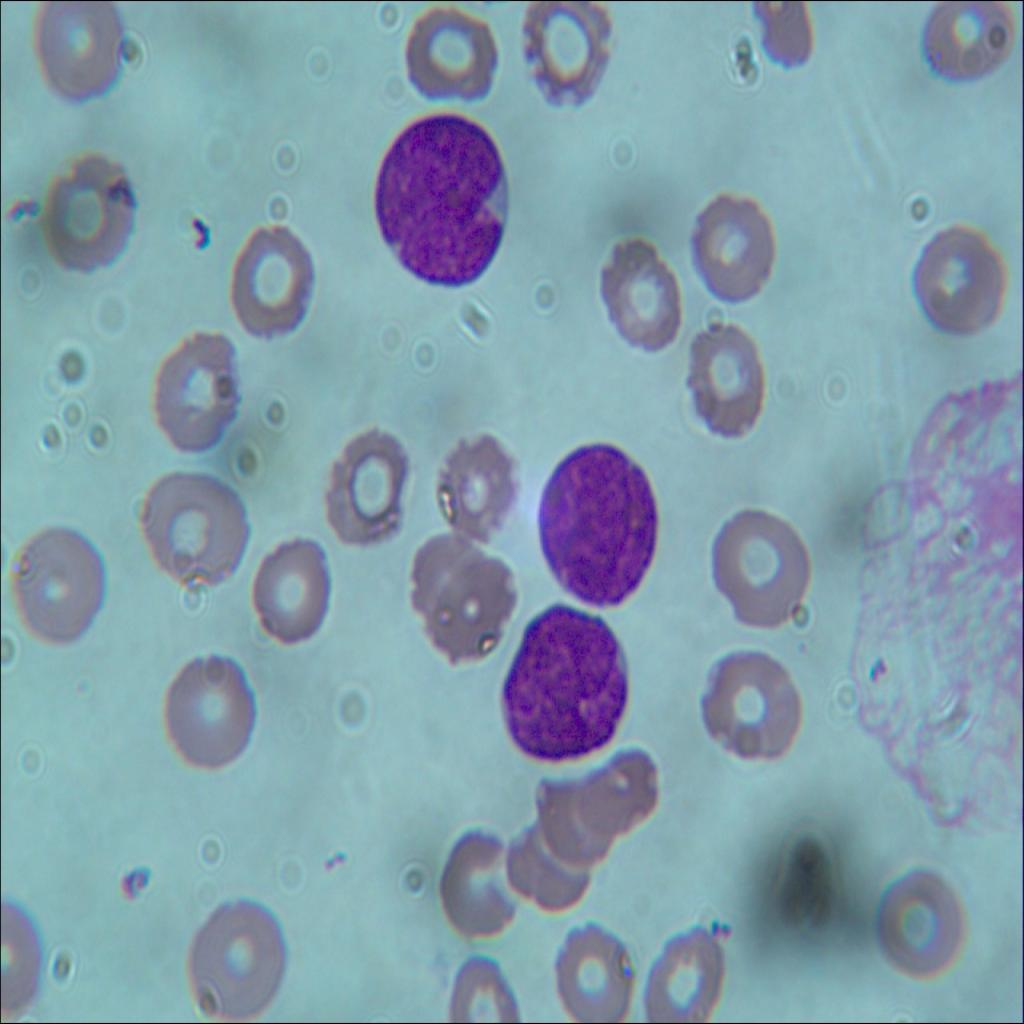Eritrosit: (133, 462, 256, 592), (398, 517, 506, 658), (711, 497, 816, 635), (39, 144, 142, 281), (9, 515, 104, 660), (164, 639, 264, 775), (183, 904, 295, 1022), (675, 319, 774, 444), (878, 872, 974, 998), (151, 321, 241, 454), (918, 210, 1010, 340), (694, 660, 806, 765), (686, 186, 782, 304), (226, 215, 316, 332), (34, 0, 130, 109), (518, 0, 614, 109), (400, 0, 506, 97), (435, 424, 522, 541), (326, 432, 406, 547), (249, 528, 333, 637), (548, 920, 636, 1023), (604, 237, 678, 354), (922, 0, 1010, 98), (646, 918, 724, 1023), (498, 821, 591, 909), (538, 782, 621, 870), (448, 826, 518, 924), (584, 752, 664, 829), (442, 954, 518, 1023), (746, 0, 814, 74)
Limfoblast: (370, 114, 508, 291), (536, 424, 659, 604), (499, 610, 635, 764)
Platelet: (111, 855, 153, 908), (858, 645, 892, 702)
